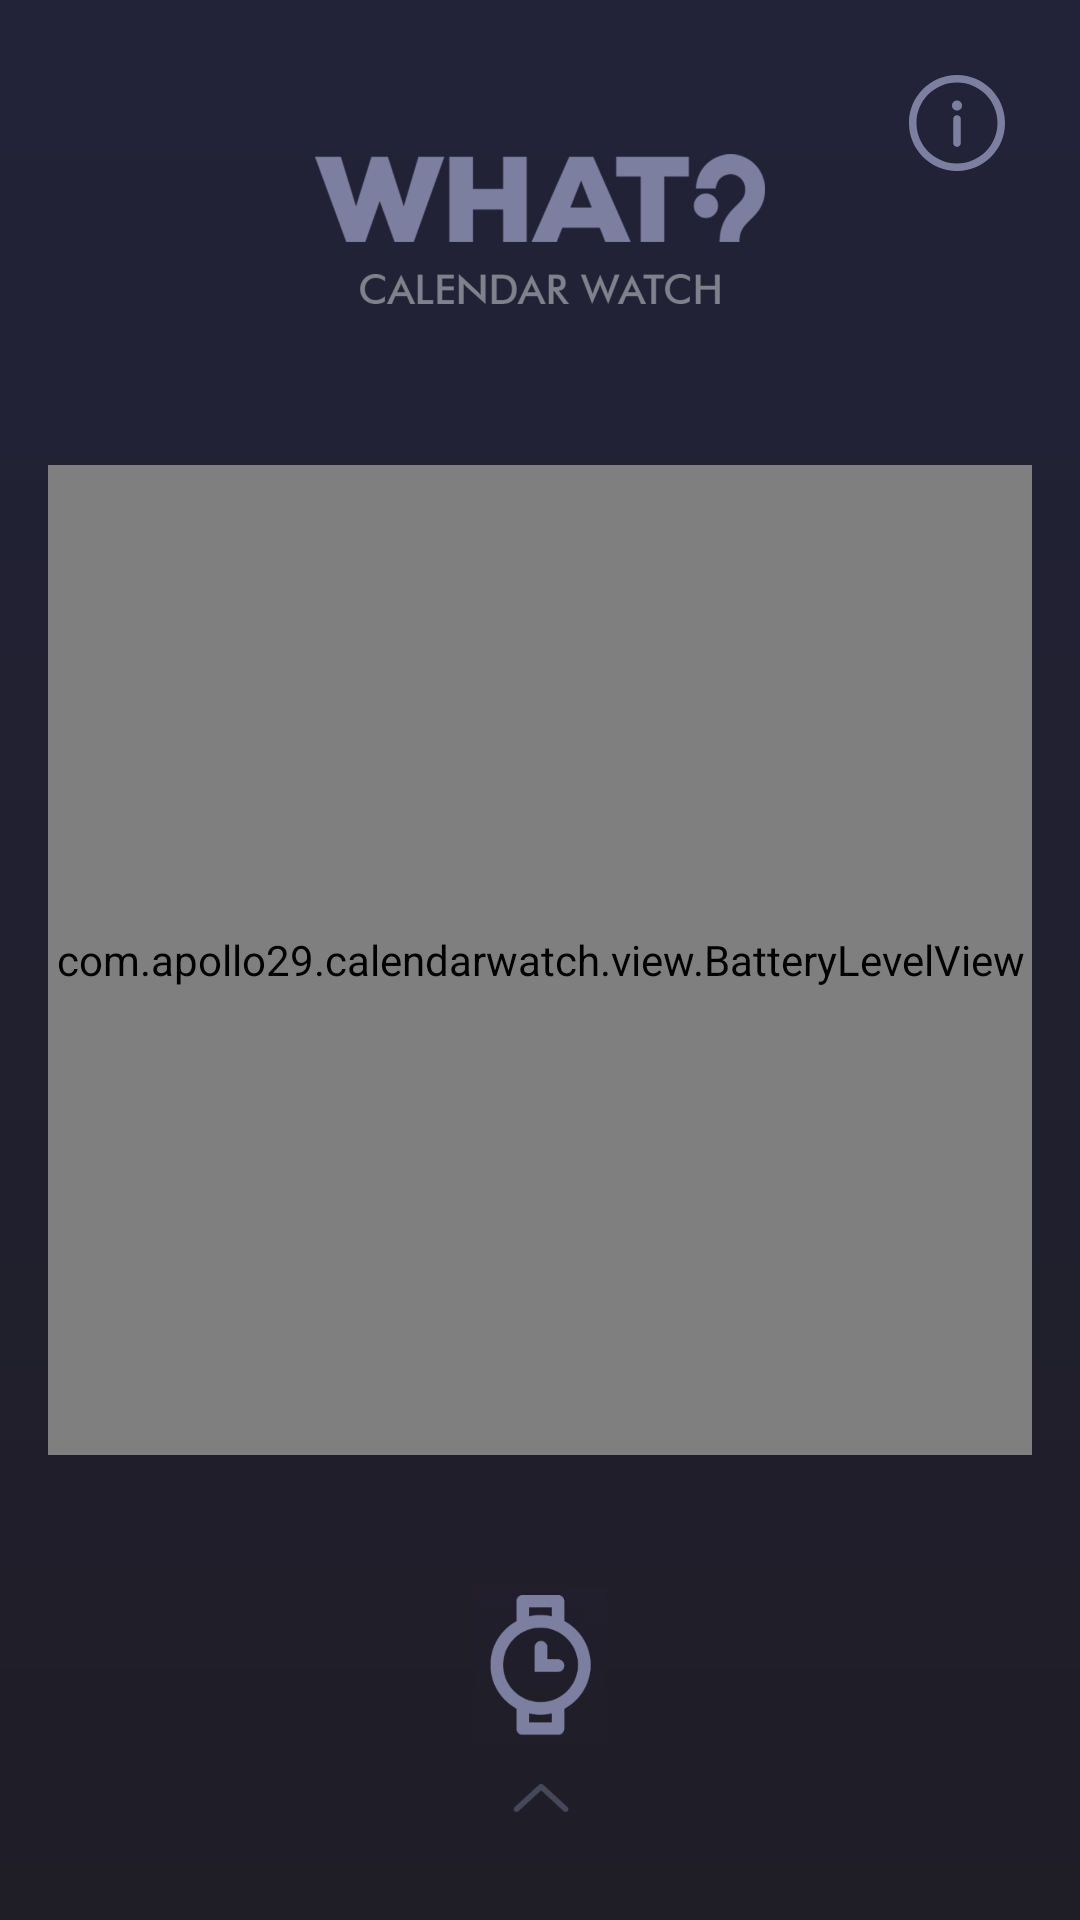

Screen size 1080 × 1920. Icon name, then its center in pixels as point (x, y):
information: point (957, 123)
watch swipe: point (540, 1703)
